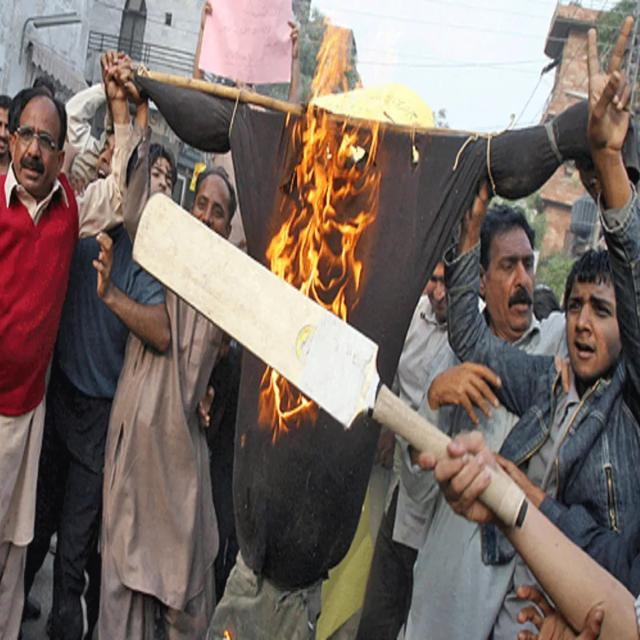fire: (257, 18, 380, 447)
